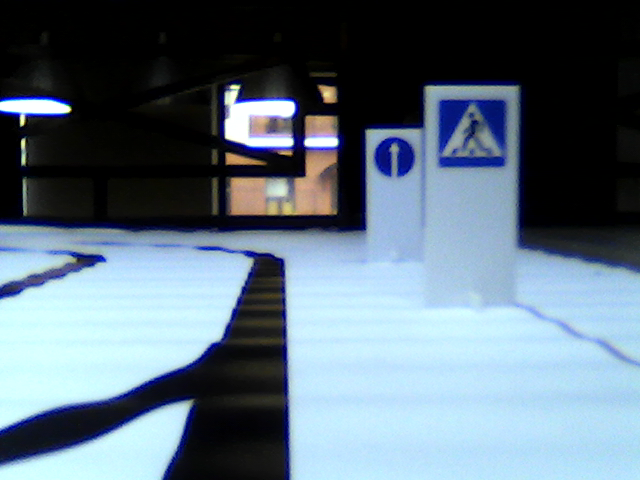forw: (373, 138, 416, 180)
pesh: (438, 97, 507, 169)
